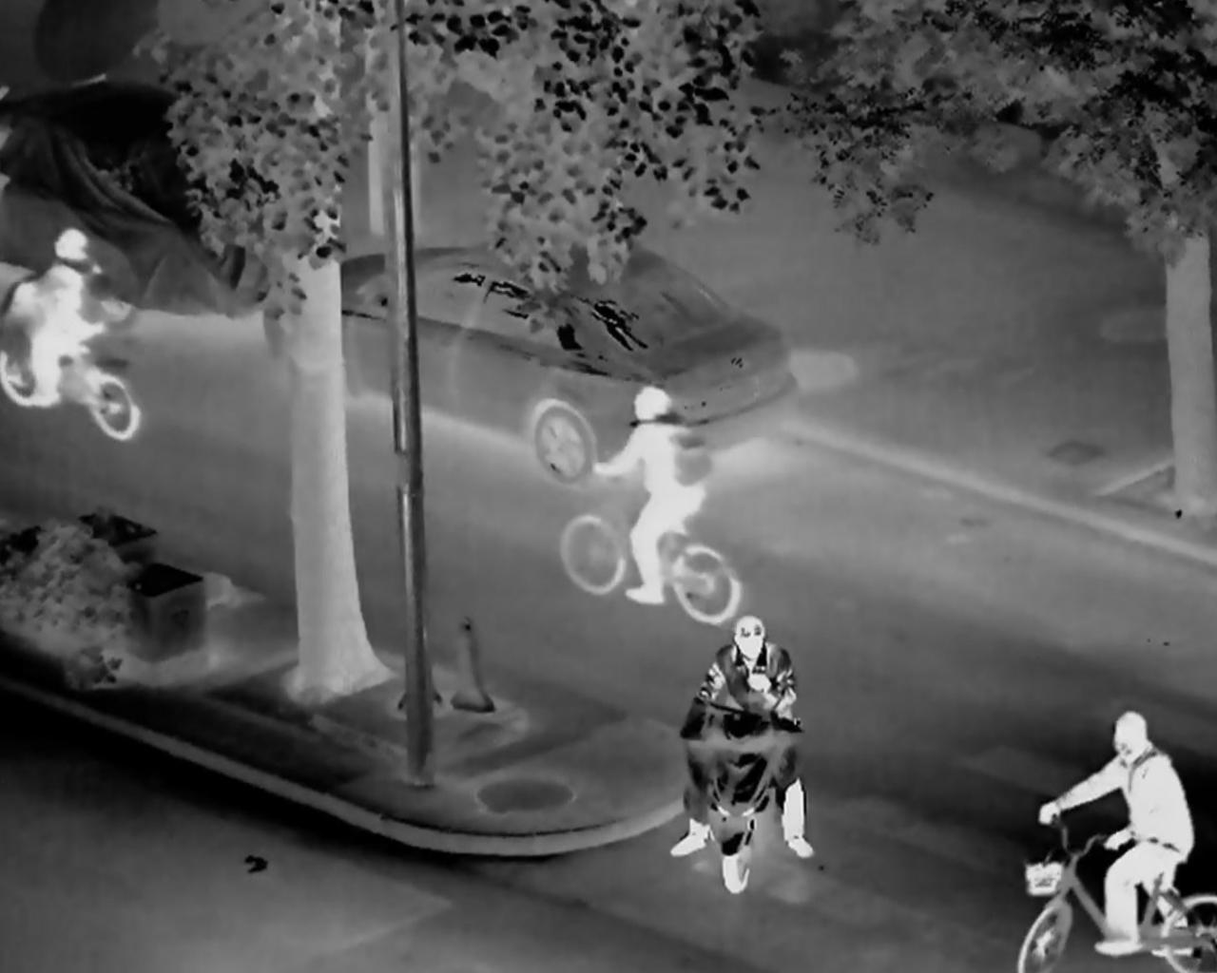person: (1024, 696, 1197, 973), (567, 373, 738, 631), (667, 604, 813, 868), (21, 217, 124, 427)
